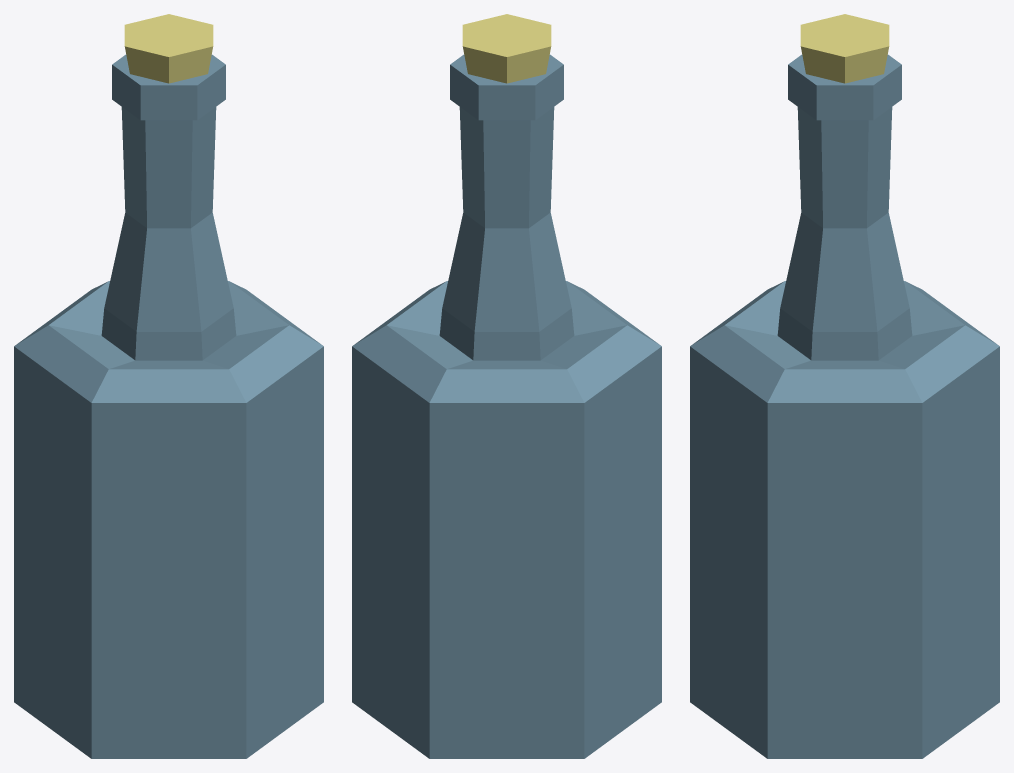
Rendered from Bottle_3.fbx.
The picture shows the model from 3 angles, left to right: view 1: azimuth 30°, elevation 25°; view 2: azimuth 150°, elevation 25°; view 3: azimuth 270°, elevation 25°; orthographic projection.
Parts seen in each view (by area): view 1: Bottle_3; view 2: Bottle_3; view 3: Bottle_3.
Part boxes in pixels (box(x1,y1,x2,y2)): Bottle_3: box(14, 14, 323, 758); Bottle_3: box(352, 14, 661, 758); Bottle_3: box(690, 14, 999, 758).
Bounding box in the file's own units: 12.25 × 33.56 × 14.14.
Materials: 1 (1 with a texture image).
